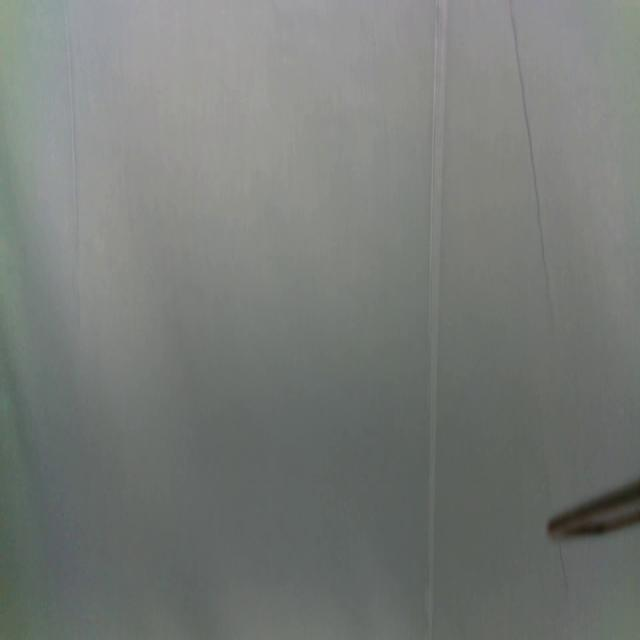crease: (508, 0, 556, 329), (426, 0, 448, 640), (61, 0, 81, 255)
